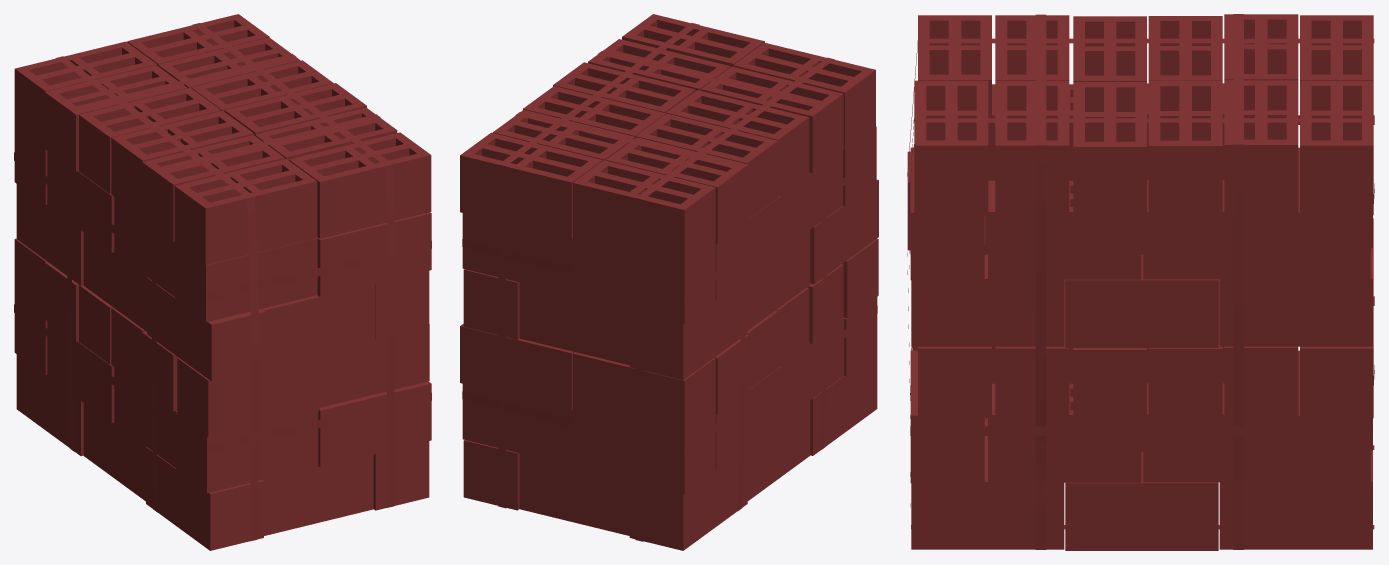
The model's file is SM_Stone01Pack01.fbx.
3 renders of one model, left to right at view 1: azimuth 30°, elevation 25°; view 2: azimuth 150°, elevation 25°; view 3: azimuth 270°, elevation 25°, orthographic. The views are drawn at different scales.
Visible parts, largest first — view 1: Stone01Pack01; view 2: Stone01Pack01; view 3: Stone01Pack01.
Boxes of the visible parts, x1,y1,x2,y2 form: Stone01Pack01: (14,14,431,550); Stone01Pack01: (460,14,878,550); Stone01Pack01: (907,14,1374,550).
Size of the model in its own units: 79.83 by 114 by 119.
